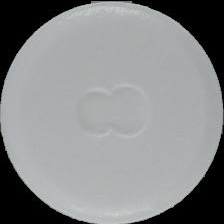33261-761: (0, 0, 224, 224)
